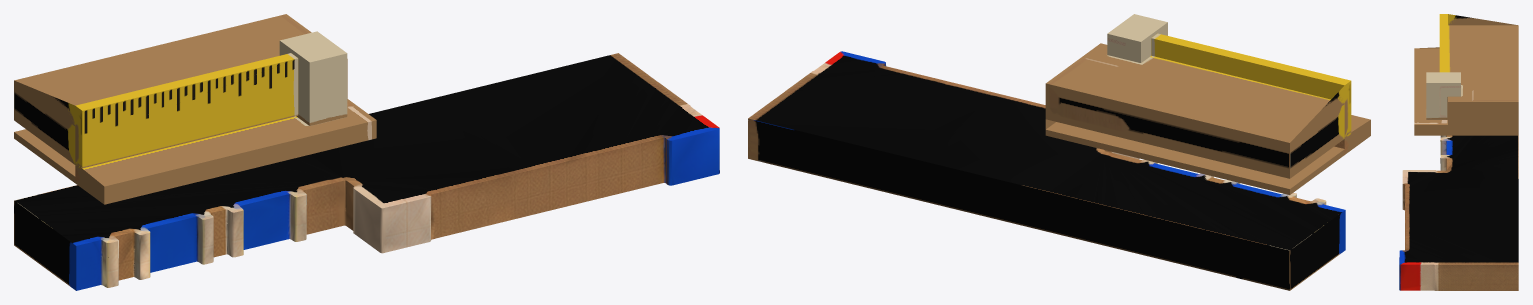
The model's file is 10-roof-front-right.fbx.
3 renders of one model, left to right at view 1: azimuth 30°, elevation 25°; view 2: azimuth 150°, elevation 25°; view 3: azimuth 270°, elevation 25°, orthographic. The views are drawn at different scales.
Visible parts, largest first — view 1: roof-front-right; view 2: roof-front-right; view 3: roof-front-right.
Part boxes in pixels (box(x1,y1,x2,y2)): roof-front-right: box(14, 14, 719, 290); roof-front-right: box(748, 14, 1370, 290); roof-front-right: box(1399, 14, 1518, 290).
Bounding box in the file's own units: 10435 × 3113 × 3083.
1 material, 1 textured.
